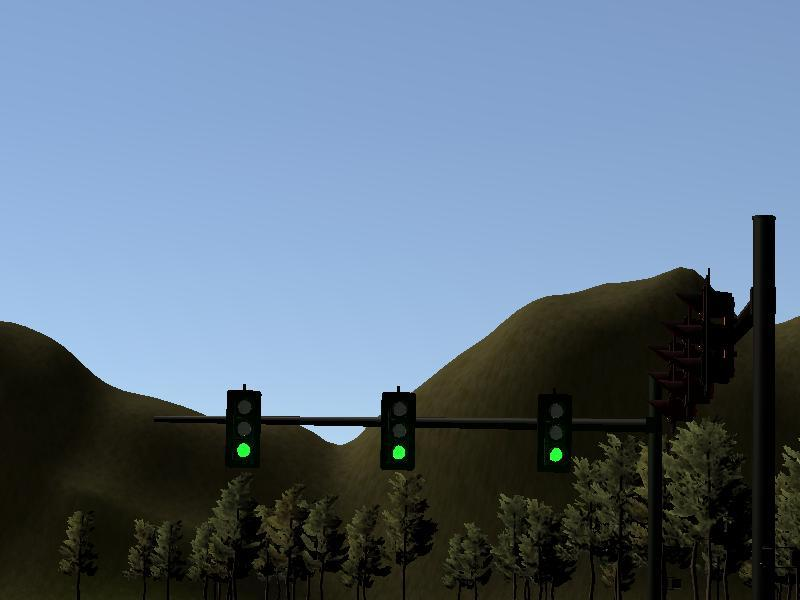Green: (536, 392, 571, 473), (225, 390, 261, 468), (380, 391, 415, 471)
